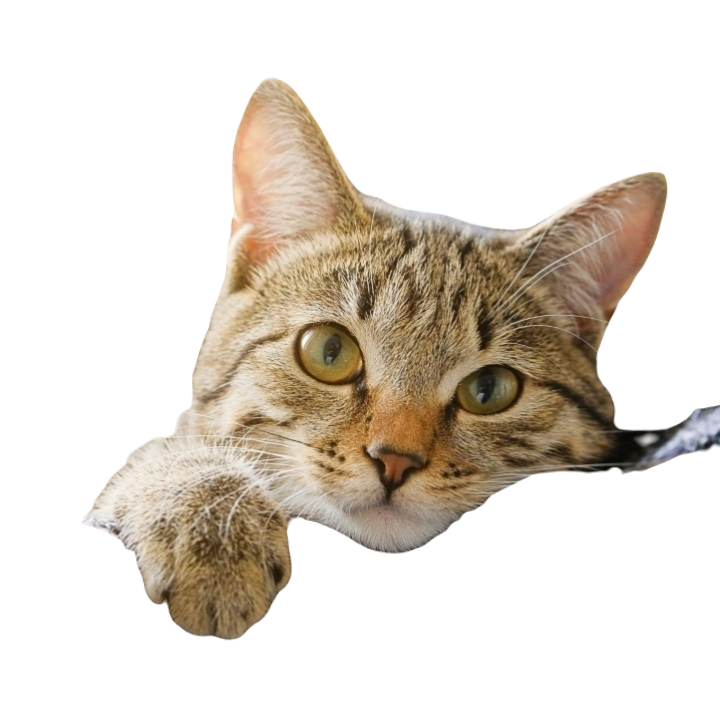Cat: (86, 61, 670, 638)
